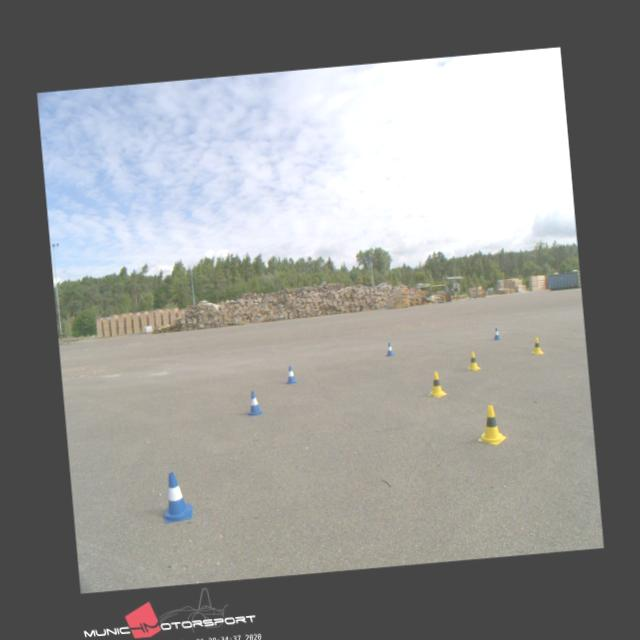blue_cone: (160, 471, 192, 522), (244, 389, 262, 416), (284, 365, 296, 383), (384, 341, 394, 355), (492, 326, 500, 339)
yellow_cone: (474, 404, 505, 444), (426, 370, 446, 396), (464, 350, 480, 370), (529, 336, 543, 354)
